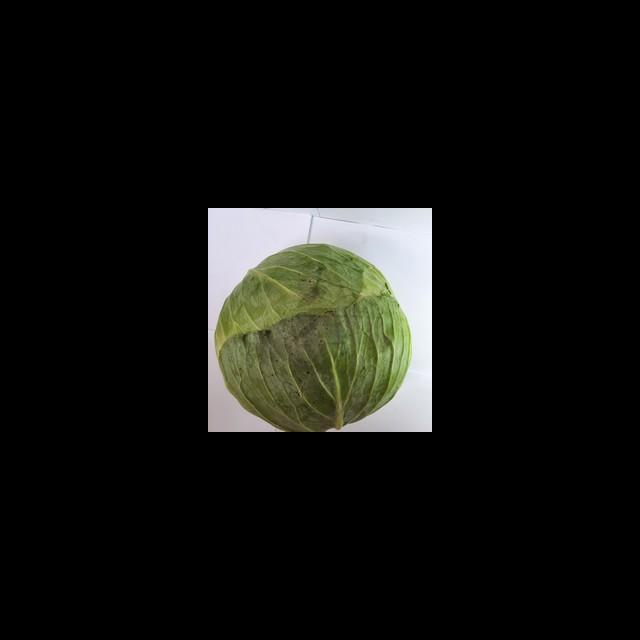cabbage: (215, 245, 411, 432)
